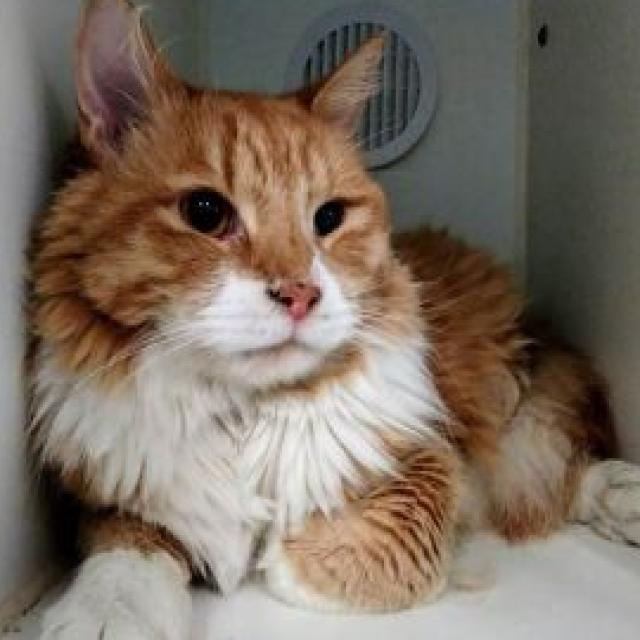Maine Coon: (19, 0, 640, 640)
